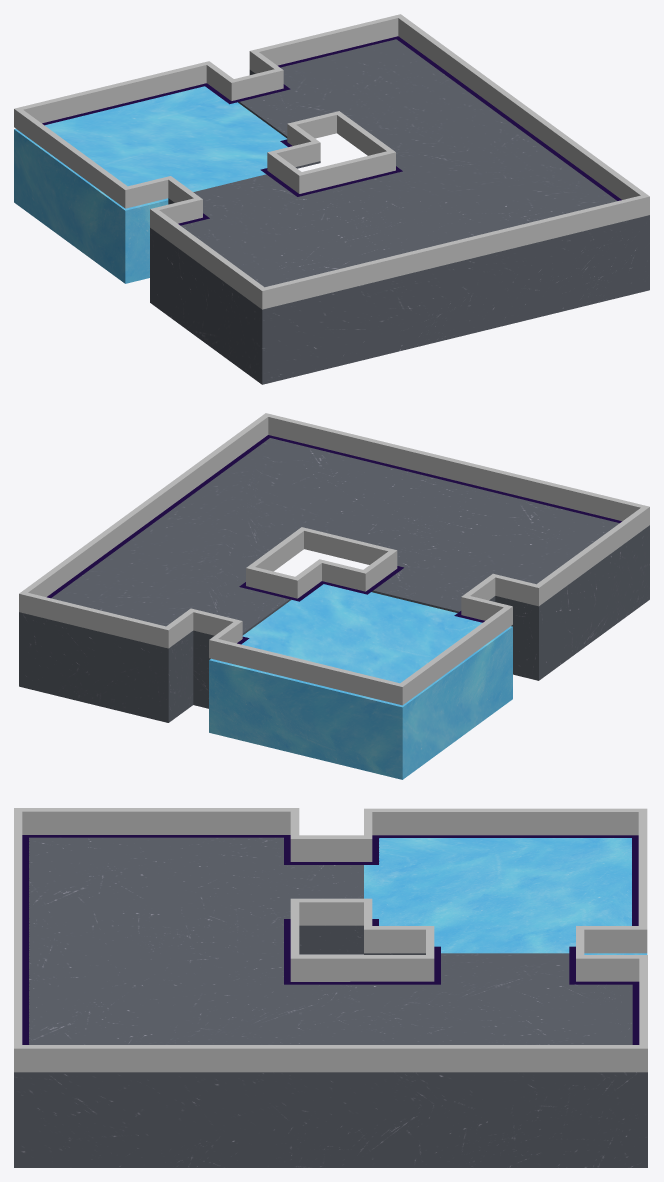
Rendered from Battle_Stage 33.fbx.
3 views of the same model, one above another, from view 1: azimuth 30°, elevation 25°; view 2: azimuth 150°, elevation 25°; view 3: azimuth 270°, elevation 25° (orthographic). The views are drawn at different scales.
Visible parts, largest first — view 1: NY_Platform_Cube__1_.003, NY_Platform_Cube__1_.004, NY_Platform_Cube__1_.005; view 2: NY_Platform_Cube__1_.003, NY_Platform_Cube__1_.004, NY_Platform_Cube__1_.005; view 3: NY_Platform_Cube__1_.003, NY_Platform_Cube__1_.004, NY_Platform_Cube__1_.005.
Boxes of the visible parts, <box> form: NY_Platform_Cube__1_.003: <box>14,39,649,384</box>; NY_Platform_Cube__1_.004: <box>14,14,649,309</box>; NY_Platform_Cube__1_.005: <box>42,36,621,225</box>; NY_Platform_Cube__1_.003: <box>19,438,649,779</box>; NY_Platform_Cube__1_.004: <box>19,413,649,705</box>; NY_Platform_Cube__1_.005: <box>47,435,621,644</box>; NY_Platform_Cube__1_.003: <box>14,837,647,1167</box>; NY_Platform_Cube__1_.004: <box>14,808,647,1072</box>; NY_Platform_Cube__1_.005: <box>22,835,639,1044</box>.
Size of the model in its own units: 5447 by 1245 by 6021.
